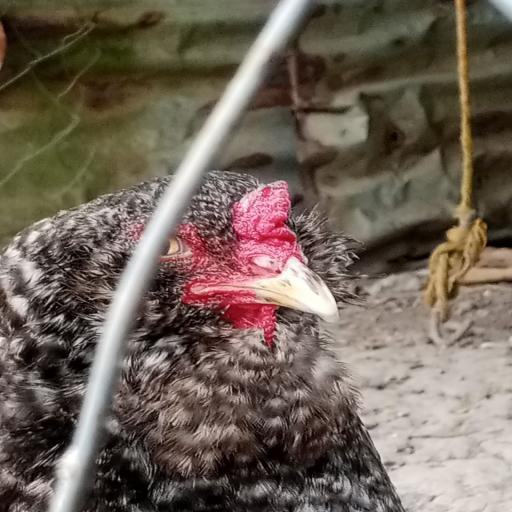disease: (233, 164, 306, 285)
